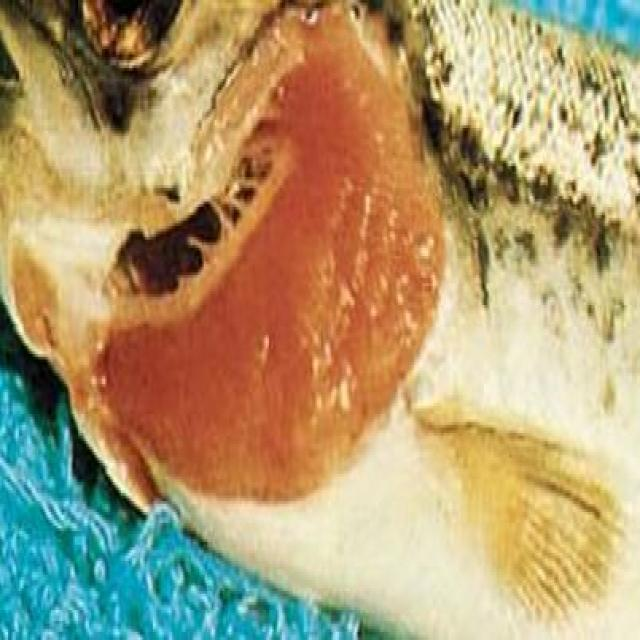Gill Disease: (12, 7, 518, 545)
